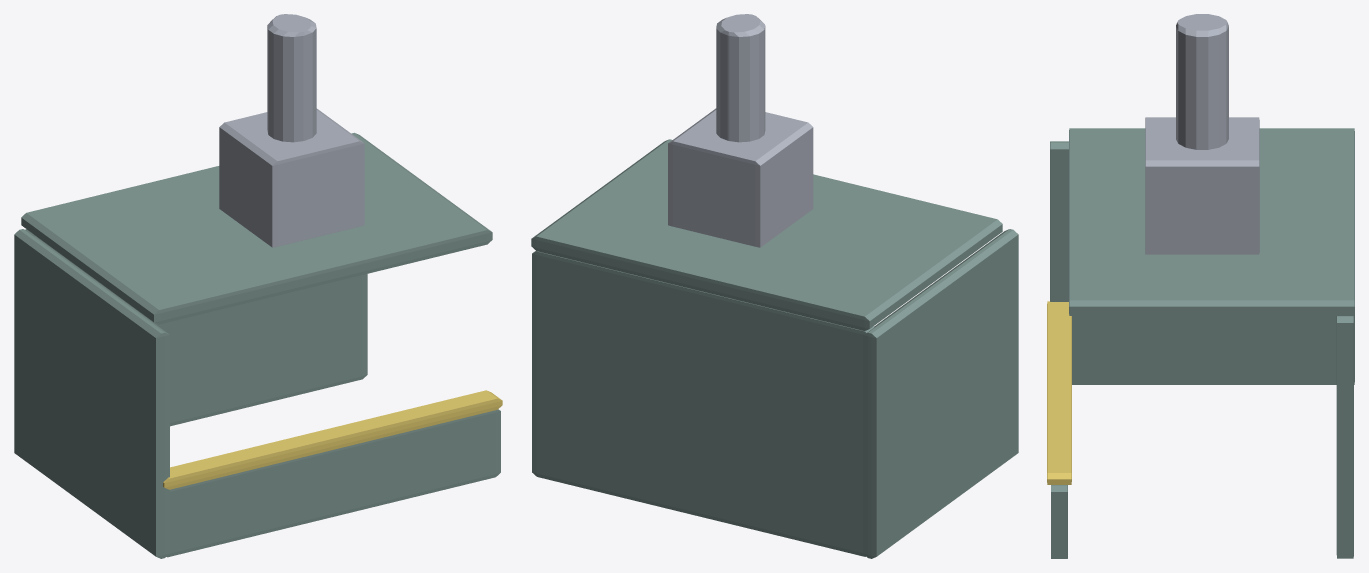
Rendered from boyahane.glb.
3 renders of one model, left to right at view 1: azimuth 30°, elevation 25°; view 2: azimuth 150°, elevation 25°; view 3: azimuth 270°, elevation 25°, orthographic. The views are drawn at different scales.
Parts seen in each view (by area): view 1: Boyahane; view 2: Boyahane; view 3: Boyahane.
Part boxes in pixels (x1,y1,x2,y2): Boyahane: (14, 14, 502, 558); Boyahane: (531, 14, 1018, 558); Boyahane: (1047, 14, 1354, 558).
Bounding box in the file's own units: 4.49 × 5.4 × 3.23.
